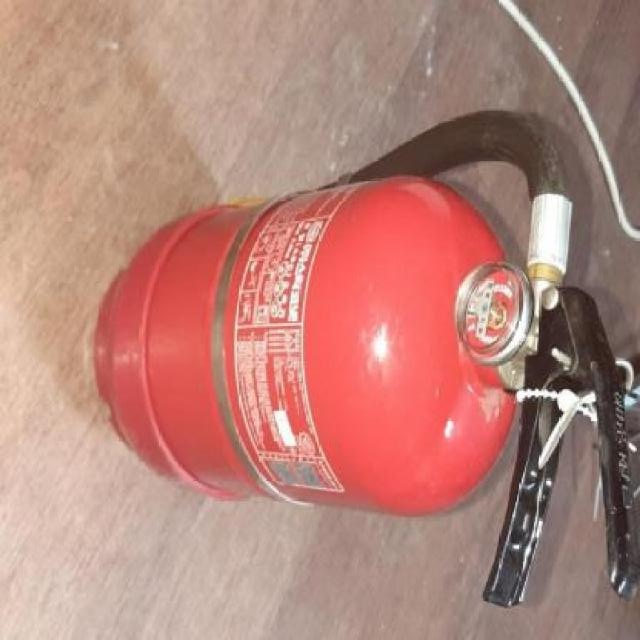fire extinguisher: (92, 110, 640, 607)
